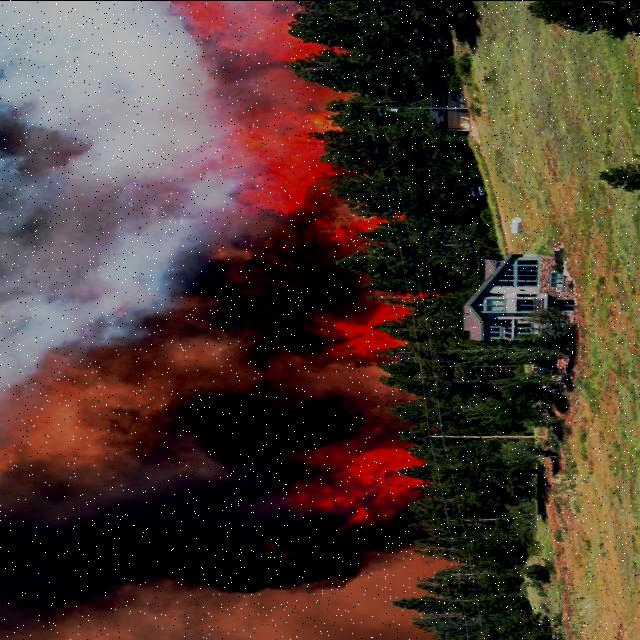api: (244, 113, 324, 214), (320, 301, 411, 377), (340, 446, 414, 512), (296, 442, 342, 510), (274, 20, 324, 75), (324, 217, 391, 242)
asap: (1, 1, 264, 635), (276, 512, 431, 625), (268, 372, 414, 437), (268, 214, 322, 360)
